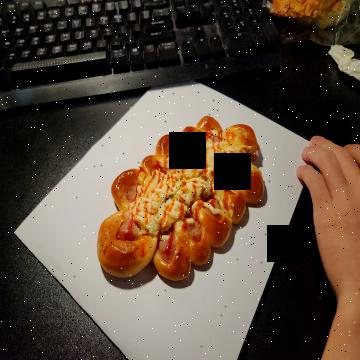pizza_bread: (98, 117, 264, 286)
